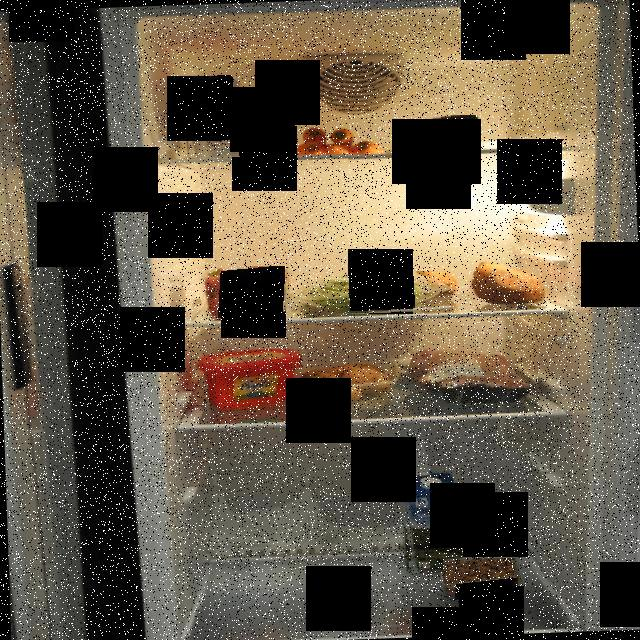butter: (195, 349, 307, 411)
carrot: (246, 124, 392, 162)
cheese: (426, 115, 482, 144)
chicken: (398, 339, 538, 403)
green_beans: (287, 271, 450, 317)
milk: (400, 466, 462, 573)
potato: (297, 362, 403, 412)
shrimp: (443, 558, 521, 602)
strawberries: (201, 266, 292, 320)
sugar: (182, 73, 248, 158)
sweet_potato: (465, 256, 547, 308), (418, 268, 456, 296)
